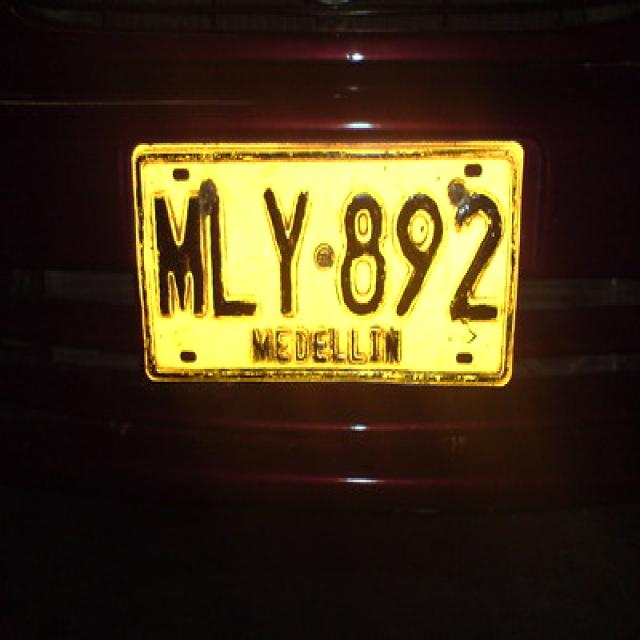placa_carro: (122, 124, 542, 416)
